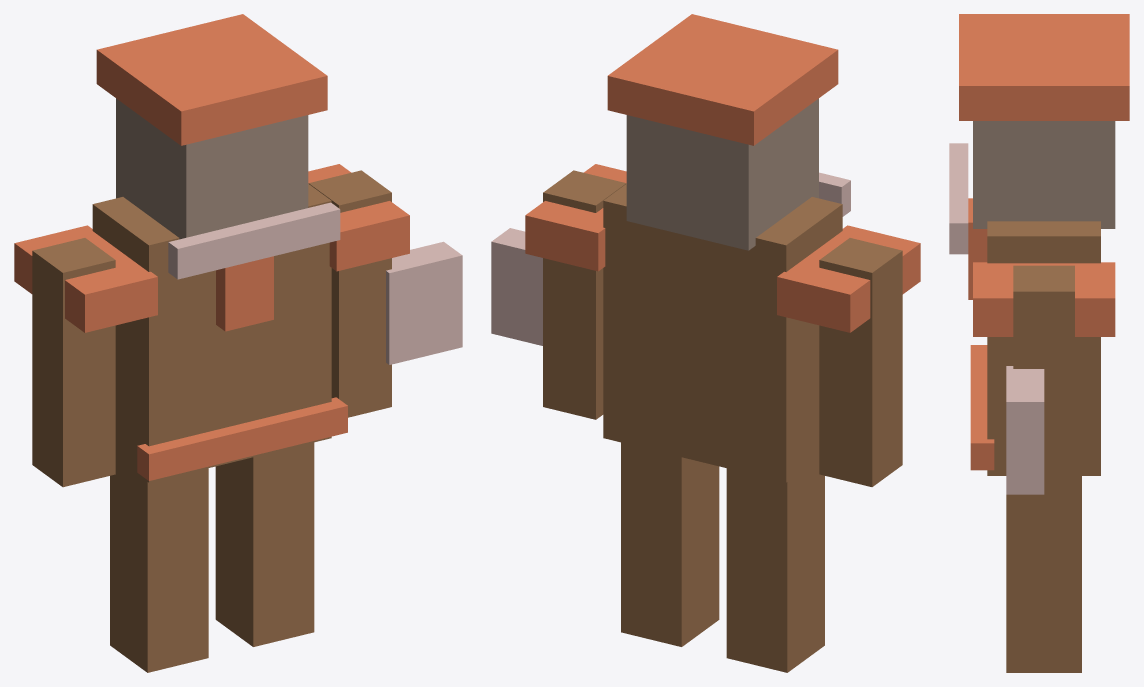
File: 09_nix_dubwater_responder_near_drill.glb
The picture shows the model from 3 angles, left to right: view 1: azimuth 30°, elevation 25°; view 2: azimuth 150°, elevation 25°; view 3: azimuth 270°, elevation 25°; orthographic projection.
Visible parts, largest first — view 1: Nix Dubwater, Responder near Drill; view 2: Nix Dubwater, Responder near Drill; view 3: Nix Dubwater, Responder near Drill.
Boxes of the visible parts, <box> form: Nix Dubwater, Responder near Drill: <box>14,14,462,672</box>; Nix Dubwater, Responder near Drill: <box>491,14,920,672</box>; Nix Dubwater, Responder near Drill: <box>949,14,1129,672</box>.
Size of the model in its own units: 1.01 by 1.41 by 0.3951.
